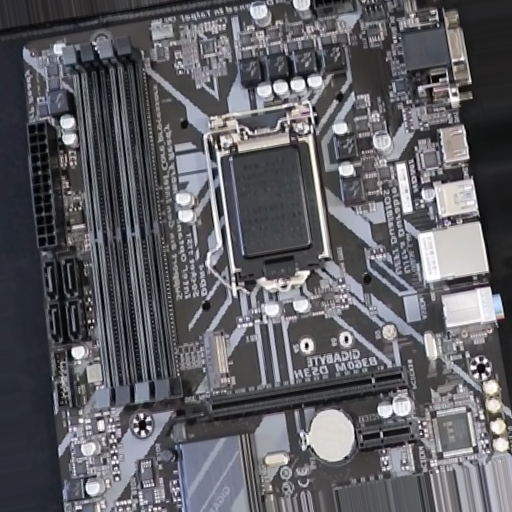CPU: (210, 102, 330, 291)
GPU: (175, 365, 410, 422)
MOTHERBOARD: (22, 1, 511, 510)
RAM: (62, 35, 186, 412)
SSD: (200, 330, 232, 392), (356, 418, 416, 450)
